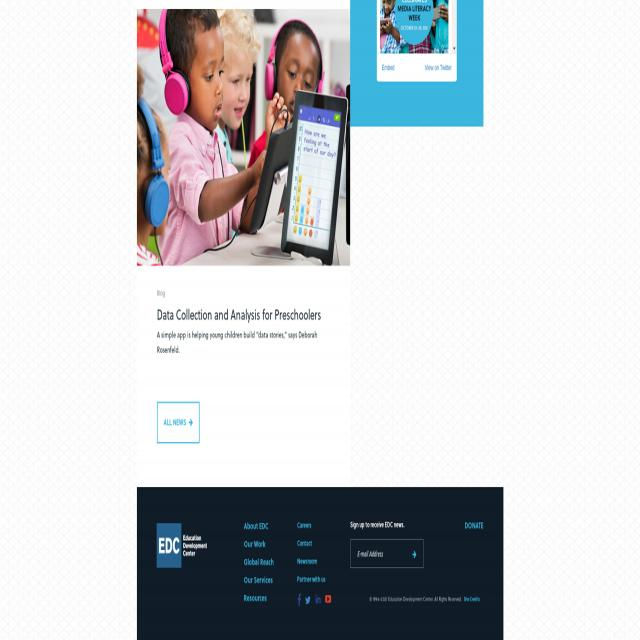button: (136, 9, 350, 266), (151, 516, 213, 578), (157, 402, 199, 443), (410, 539, 424, 569), (324, 594, 331, 606), (304, 595, 311, 607), (314, 594, 320, 606), (297, 594, 301, 609)
field: (350, 539, 424, 568)
